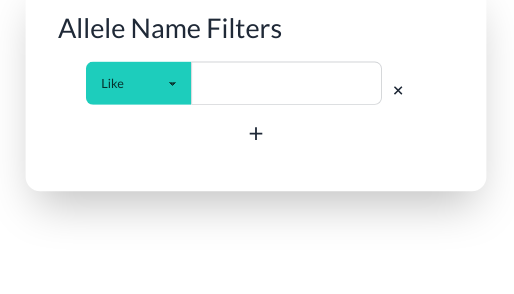
Test case: ColumnFilter › add button adds a second row below the blank one
The width and height of the screenshot is (514, 294).
Expected: the number of fields is 1, [191, 62, 382, 105]
Click the button titled "add-filter": (256, 126) [58, 108, 454, 144]
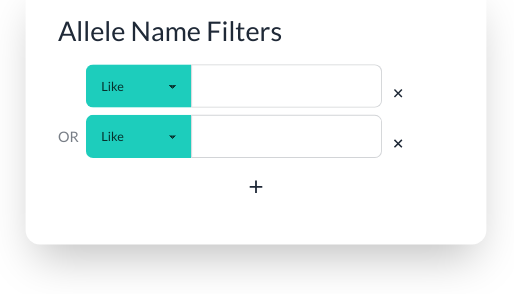
Now the number of fields is 2, box [191, 64, 382, 108]; [191, 115, 382, 158]
Now the text "OR" is shown 2 times
